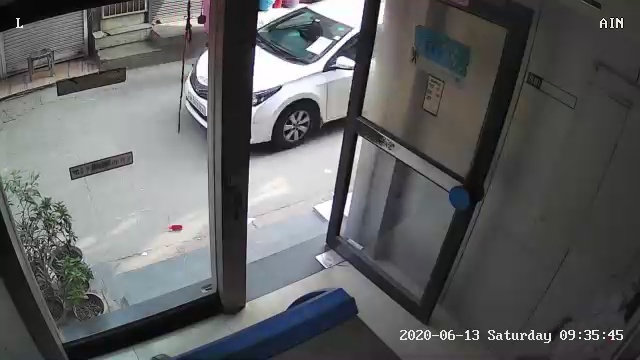open: (197, 1, 539, 357)
